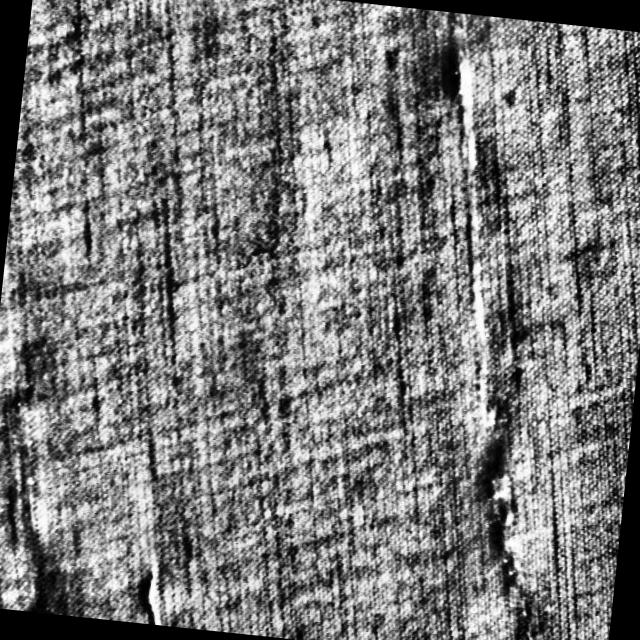gray stitch: (448, 251, 588, 640), (413, 10, 498, 177), (130, 557, 180, 625)
